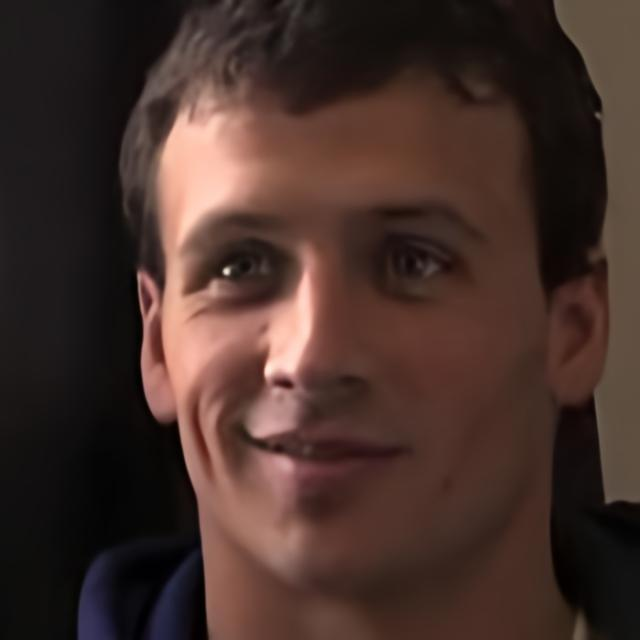content: (156, 71, 548, 588)
